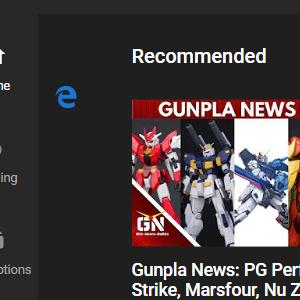edge: (55, 85, 77, 109)
